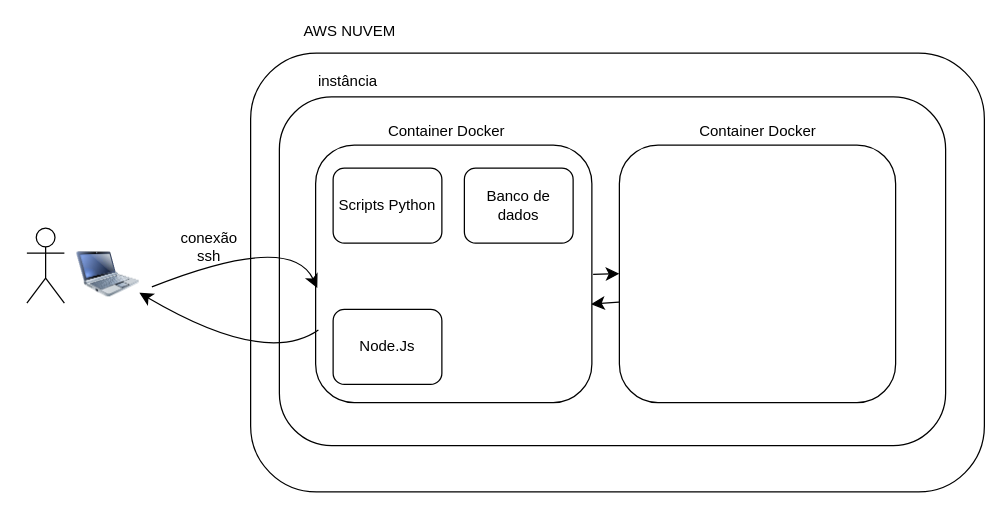
Some shapes in this 1006 by 514 pixel diagram are drawn without their labels. The centre of each missing label's shape, as x and y in pixels:
API REST: the point at 757,273
usuário: the point at 45,265
